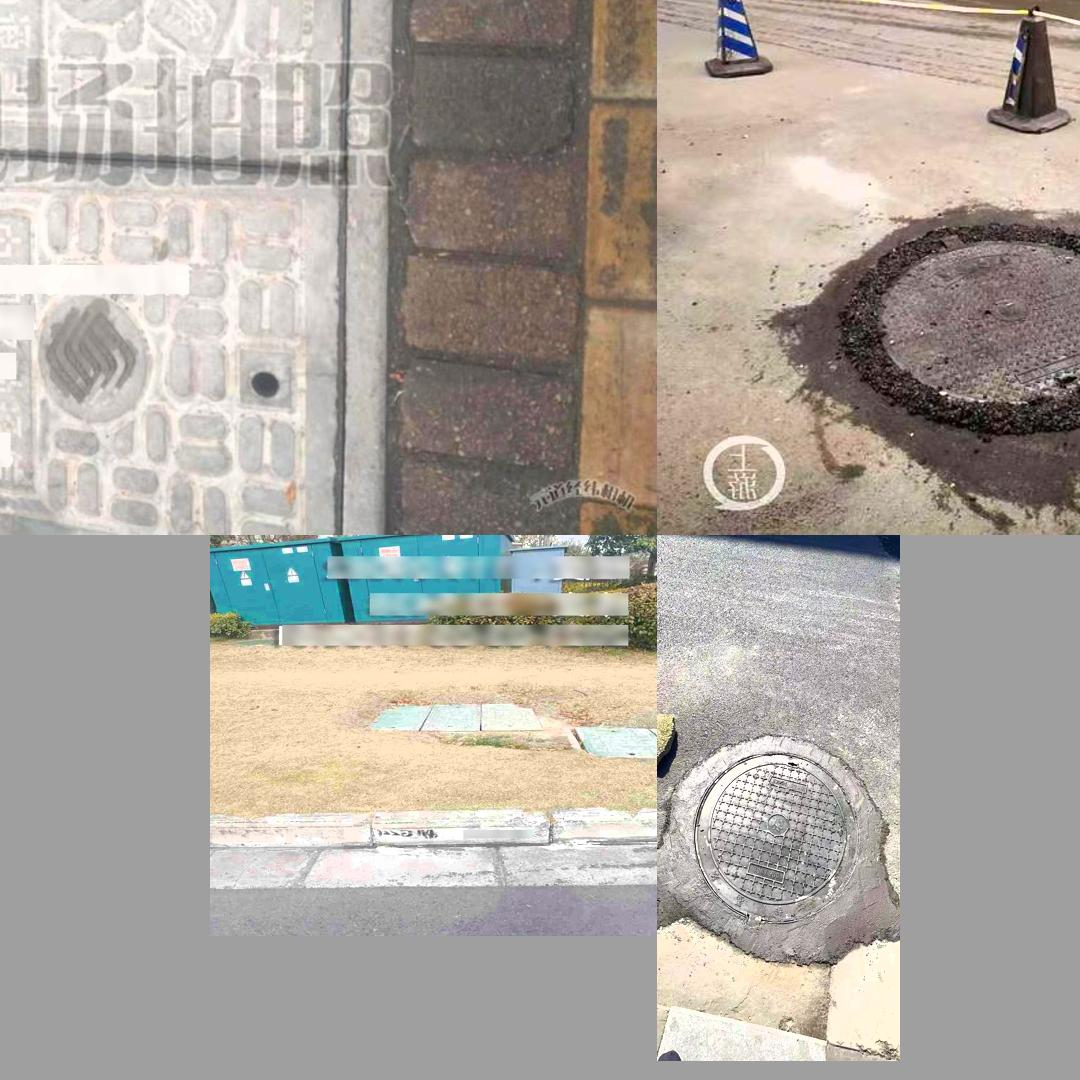good: (0, 0, 397, 535), (790, 195, 1080, 492), (660, 734, 894, 968), (366, 700, 543, 732), (564, 726, 656, 757)
